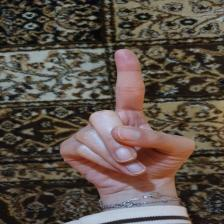one: (63, 47, 196, 208)
